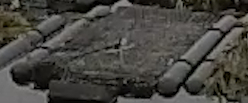bag: (10, 5, 236, 98)
